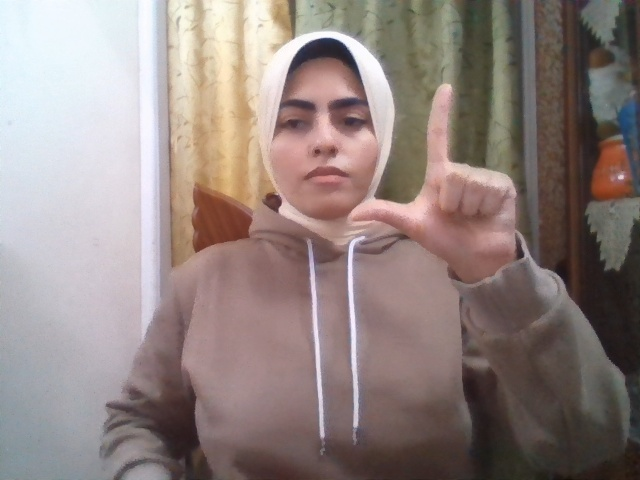L: (349, 82, 517, 266)
